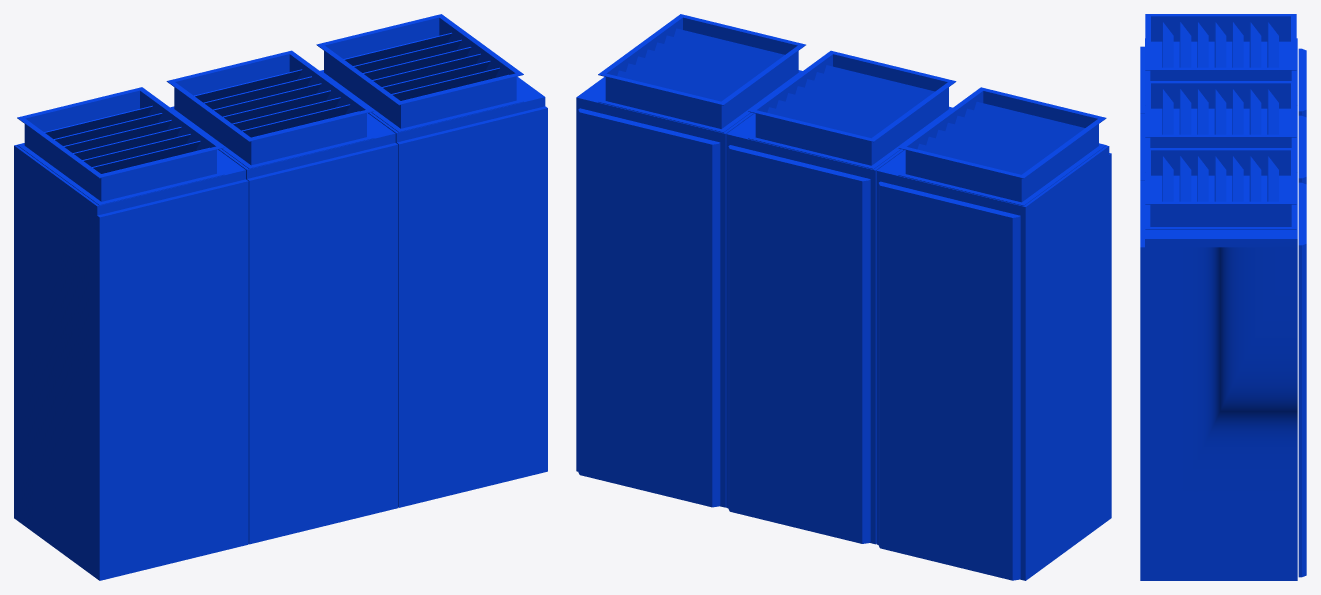
Rendered from pMcooling_low.FBX.
3 renders of one model, left to right at view 1: azimuth 30°, elevation 25°; view 2: azimuth 150°, elevation 25°; view 3: azimuth 270°, elevation 25°, orthographic. The views are drawn at different scales.
Parts seen in each view (by area): view 1: hladjenje; view 2: hladjenje; view 3: hladjenje.
Part boxes in pixels (left/top/right/bottom): hladjenje: left=14, top=14, right=547, bottom=580; hladjenje: left=576, top=14, right=1111, bottom=580; hladjenje: left=1140, top=14, right=1306, bottom=580.
Bounding box in the file's own units: 3.39 × 2.89 × 1.19.
